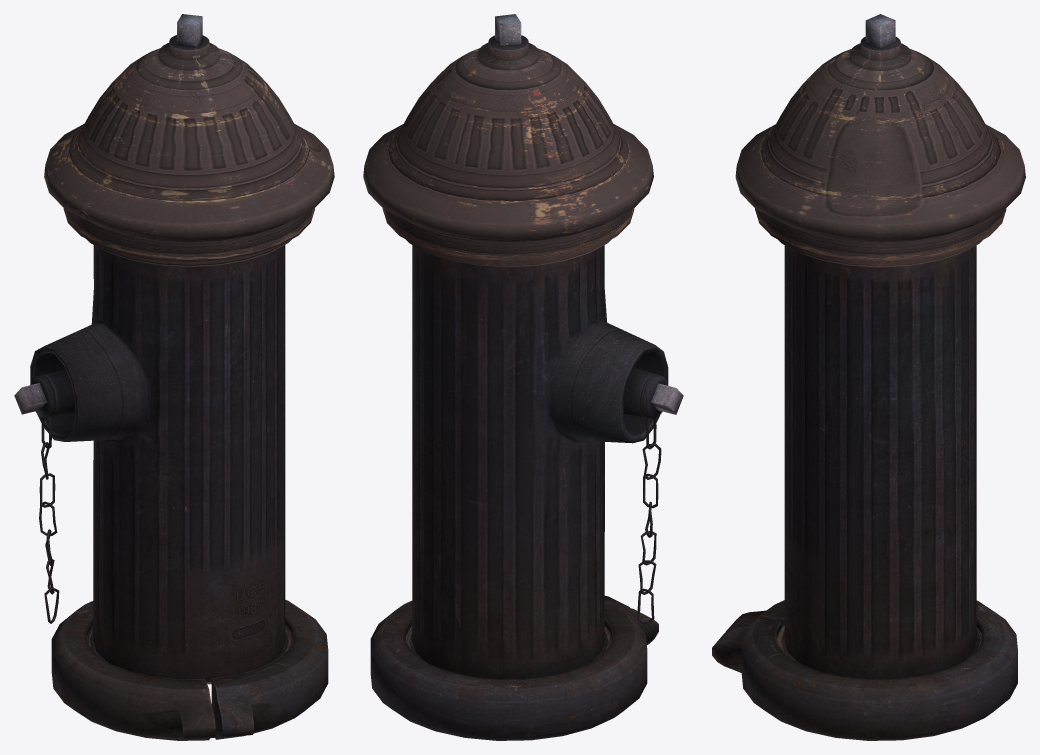
File: Fire Hydrant.obj
The picture shows the model from 3 angles, left to right: view 1: azimuth 30°, elevation 25°; view 2: azimuth 150°, elevation 25°; view 3: azimuth 270°, elevation 25°; orthographic projection.
Parts seen in each view (by area): view 1: polySurface10; view 2: polySurface10; view 3: polySurface10.
Part boxes in pixels (left/top/right/bottom): polySurface10: left=14, top=14, right=334, bottom=740; polySurface10: left=363, top=14, right=683, bottom=740; polySurface10: left=712, top=14, right=1025, bottom=740.
Size of the model in its own units: 56.39 by 123 by 52.28.
